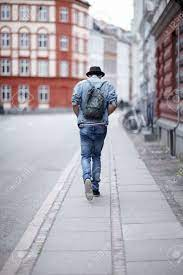person: (70, 65, 119, 202)
